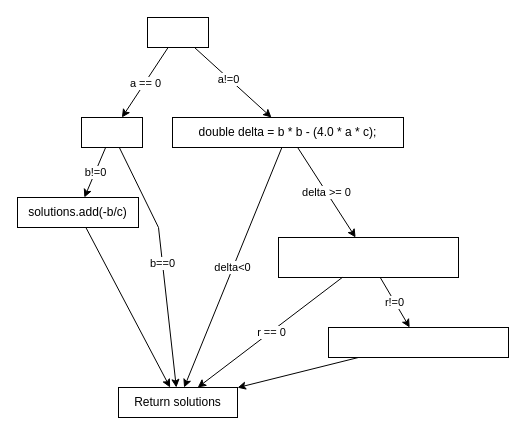
This 526x435 diagram has some shape labels left out. The shapes that lost their labels are listed below. From the top down, each one's centre as x and y in pixels, then its label:
At pixel 368 257: "double r = Math.sqrt(delta); solutions.add((-b + r) / (2.0 * a));".
At pixel 418 342: "solutions.add((-b - r) / (2.0 * a));".
